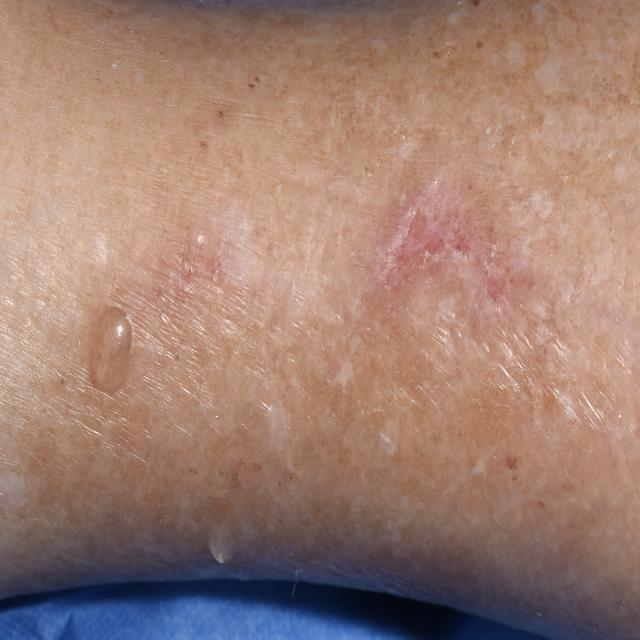wound: (88, 189, 555, 395)
